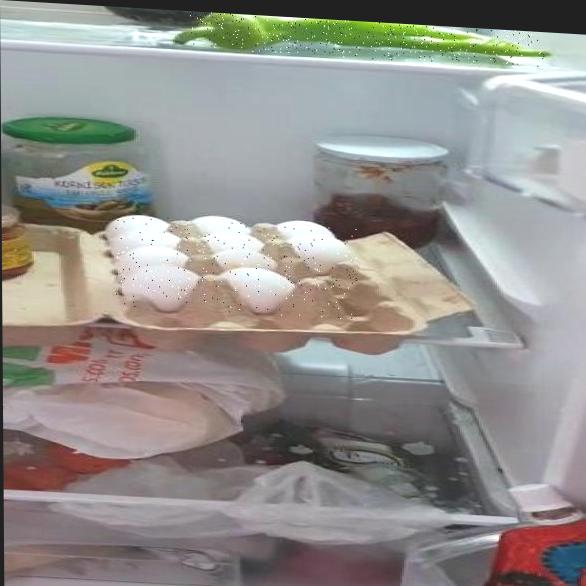eggs: (116, 215, 357, 320)
green chilies: (190, 11, 544, 69)
